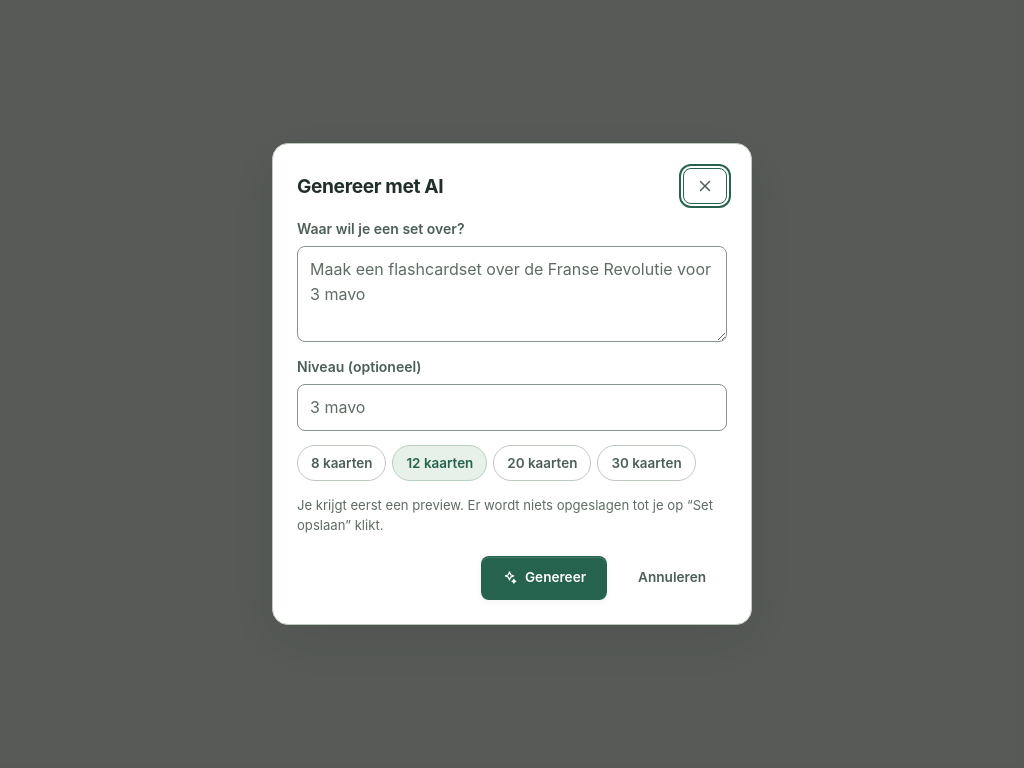
Scenario: AiGenerateSetModal › lets the student remove a card from the preview
Step 1. Type "Franse Revolutie" into the text box with placeholder "Maak een flashcardset over de Franse Revolutie voor 3 mavo" → x=512, y=294, box top-left (297, 246), bottom-right (727, 342)
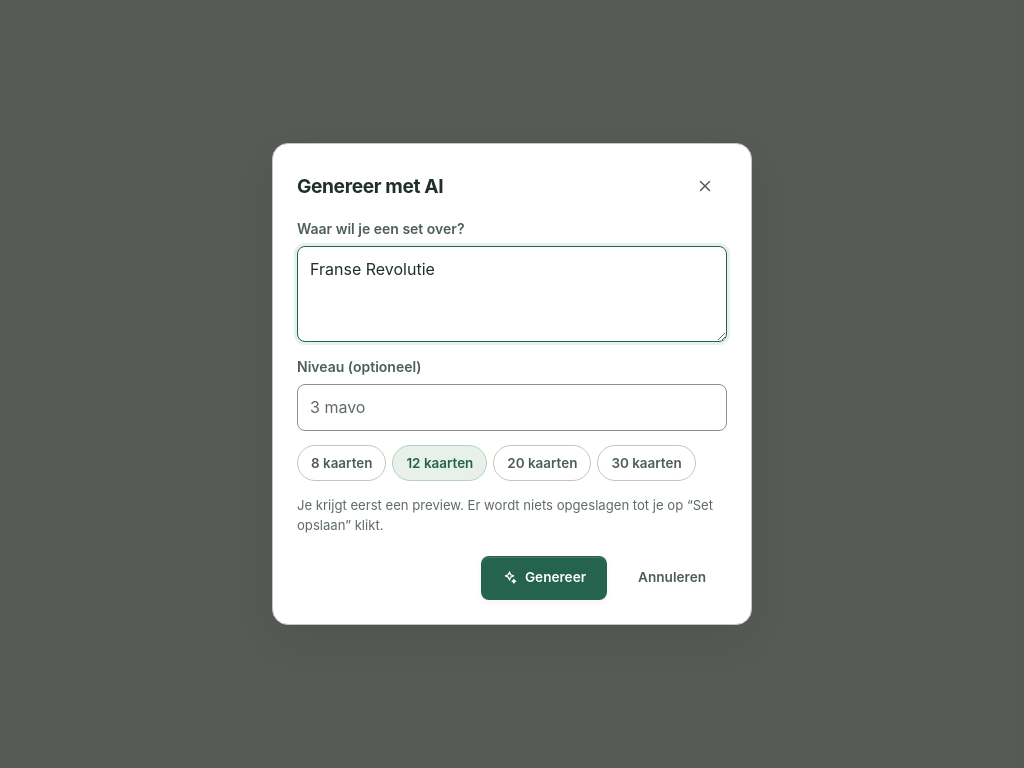
Step 2. Click the button "Genereer" → x=544, y=578, box top-left (481, 556), bottom-right (607, 600)
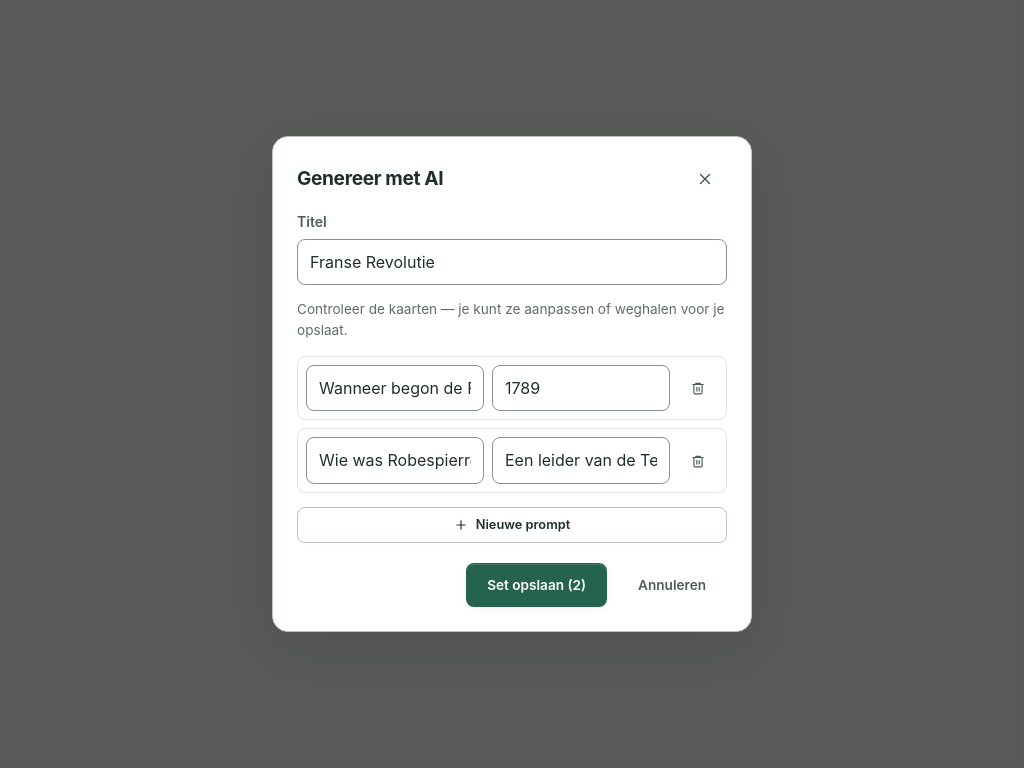
Now the field showing "1789" is shown, box top-left (492, 364), bottom-right (670, 411)
Step 3. Click the button named "Verwijder kaart 1" → x=698, y=388, box top-left (678, 370), bottom-right (718, 406)
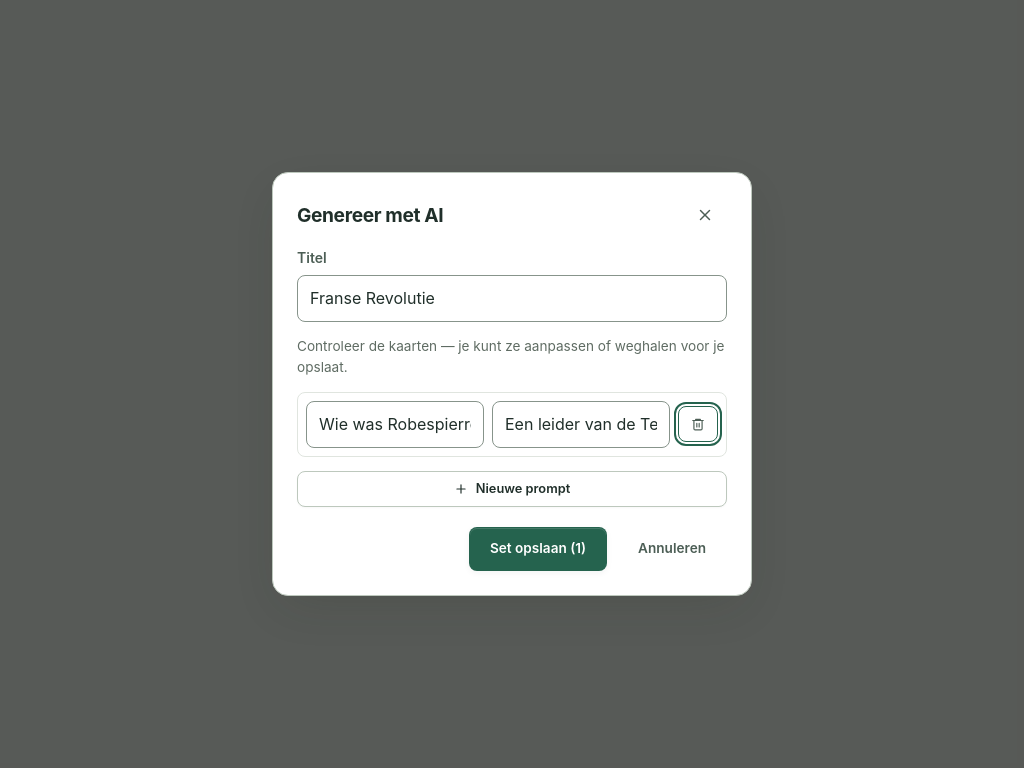
Expected: the field showing "1789" is not shown
Now the button "Set opslaan (1)" is shown, box top-left (469, 527), bottom-right (607, 571)
